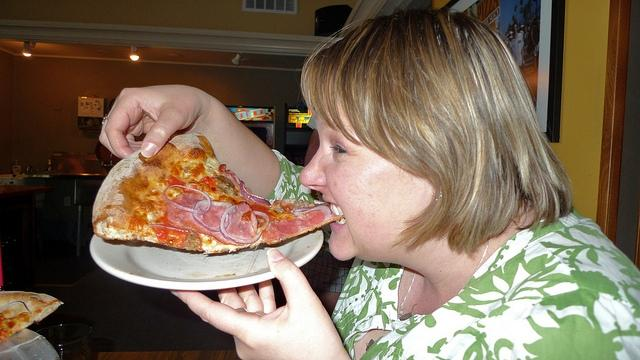onion: (220, 204, 270, 244), (192, 200, 233, 232), (143, 224, 201, 246), (293, 204, 342, 222), (240, 180, 270, 204), (1, 300, 32, 314), (242, 182, 264, 199)
